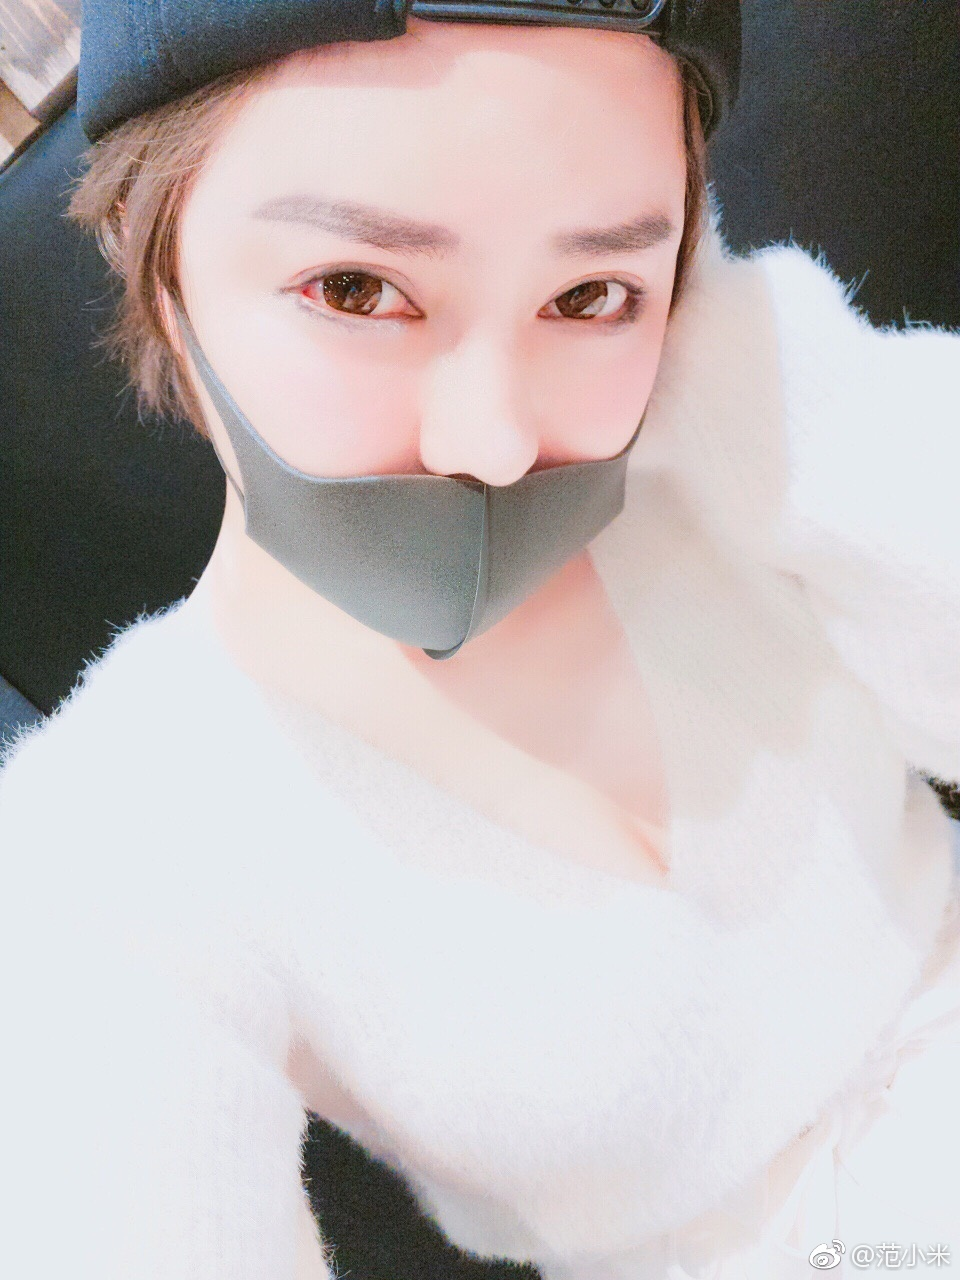mask: (154, 245, 690, 636)
